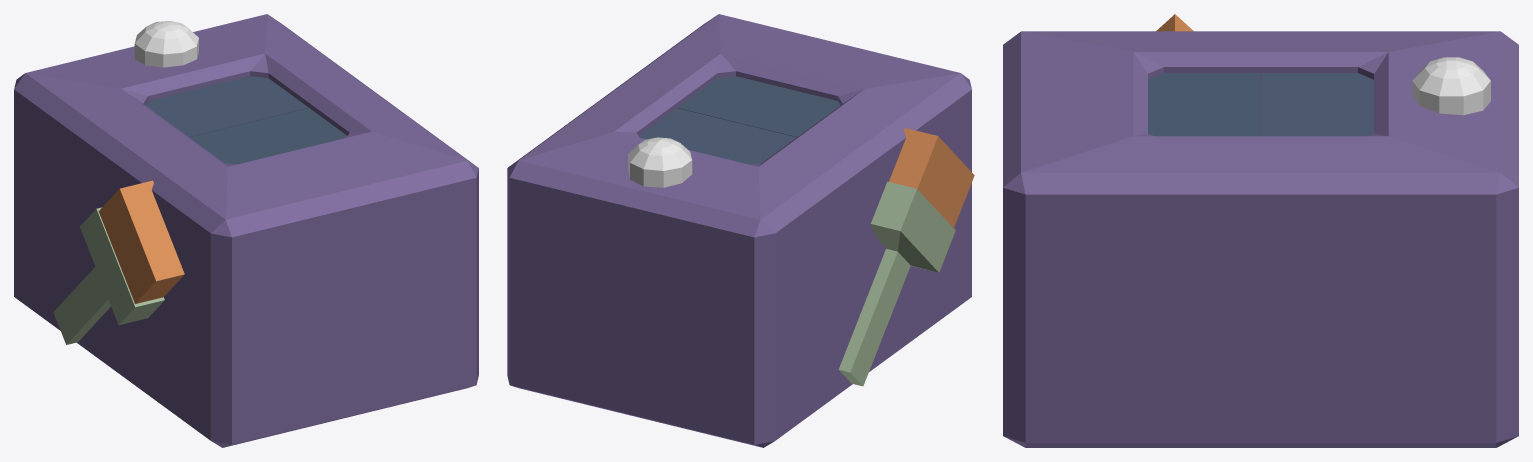
The model's file is Factory.Painter.fbx.
3 renders of one model, left to right at view 1: azimuth 30°, elevation 25°; view 2: azimuth 150°, elevation 25°; view 3: azimuth 270°, elevation 25°, orthographic. The views are drawn at different scales.
Visible parts, largest first — view 1: Factory.Painter, Brush.Painter, DoorRight.Painter, DoorLeft.Painter, Light.Painter; view 2: Factory.Painter, Brush.Painter, DoorLeft.Painter, DoorRight.Painter, Light.Painter; view 3: Factory.Painter, DoorLeft.Painter, DoorRight.Painter, Light.Painter.
Part boxes in pixels (x1=…): Factory.Painter: x1=14, y1=14, x2=478, y2=447; Brush.Painter: x1=53, y1=180, x2=184, y2=344; DoorRight.Painter: x1=145, y1=76, x2=308, y2=137; DoorLeft.Painter: x1=189, y1=108, x2=347, y2=164; Light.Painter: x1=134, y1=21, x2=198, y2=67; Factory.Painter: x1=507, y1=14, x2=971, y2=447; Brush.Painter: x1=838, y1=128, x2=974, y2=386; DoorLeft.Painter: x1=677, y1=76, x2=840, y2=137; DoorRight.Painter: x1=639, y1=108, x2=796, y2=164; Light.Painter: x1=628, y1=137, x2=692, y2=187; Factory.Painter: x1=1003, y1=31, x2=1518, y2=447; DoorLeft.Painter: x1=1148, y1=73, x2=1260, y2=136; DoorRight.Painter: x1=1261, y1=73, x2=1373, y2=136; Light.Painter: x1=1412, y1=57, x2=1490, y2=115.
Size of the model in its own units: 105 by 88.61 by 131.
